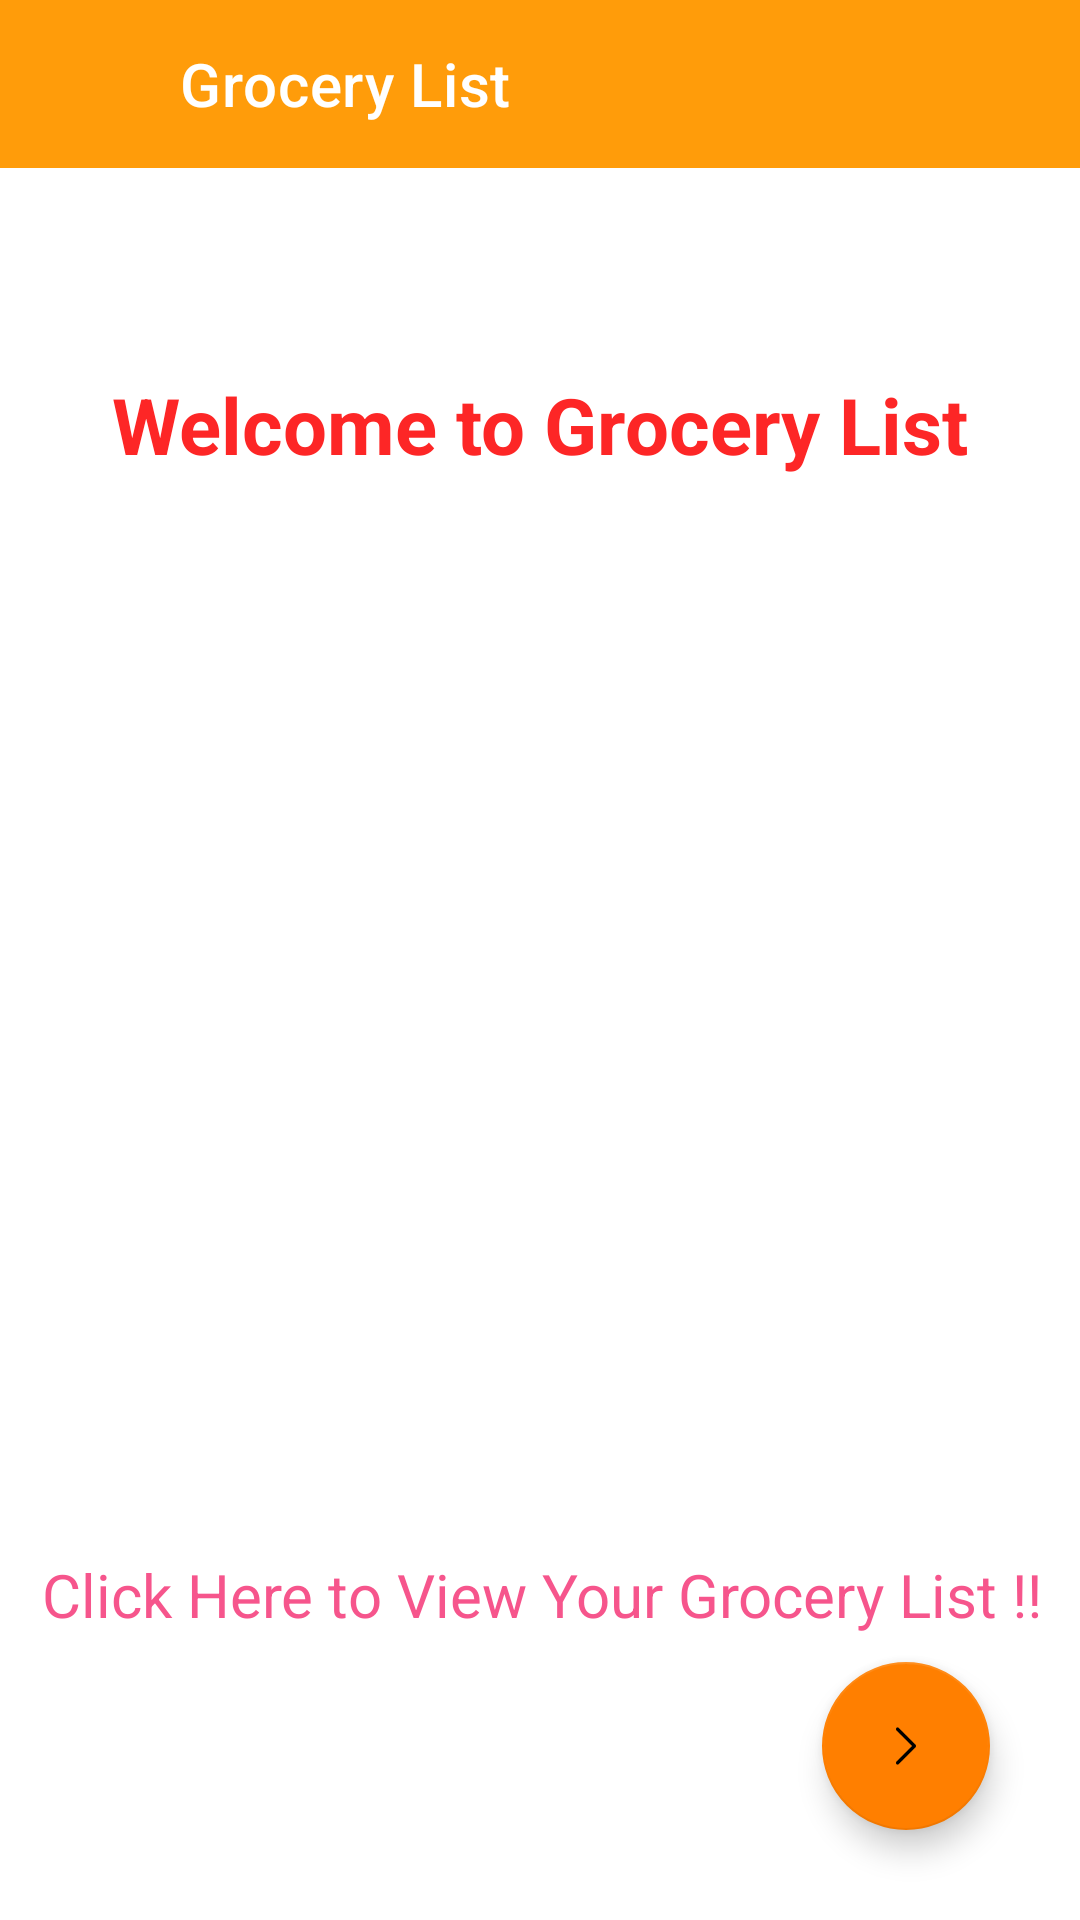

Locate icon controls on the screen. Image size 1080 x 1920, boxes as (x1, y1, x2, y2).
nexticon: (822, 1662, 990, 1830)
